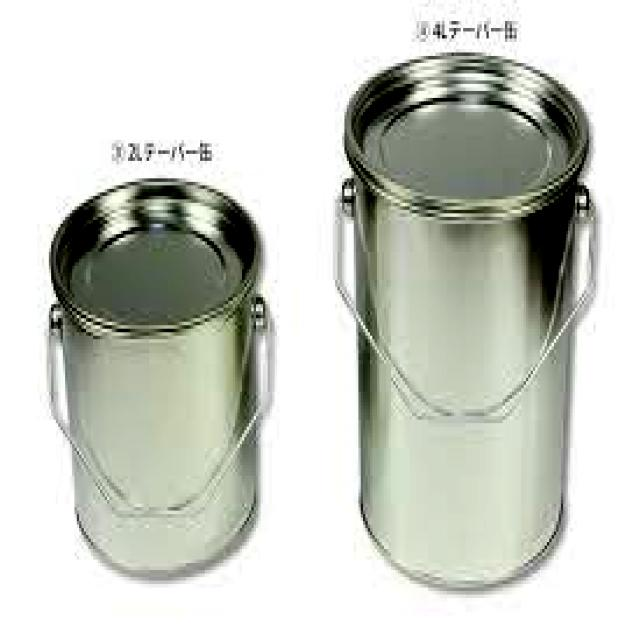Metal: (345, 48, 587, 595), (47, 174, 267, 581)
